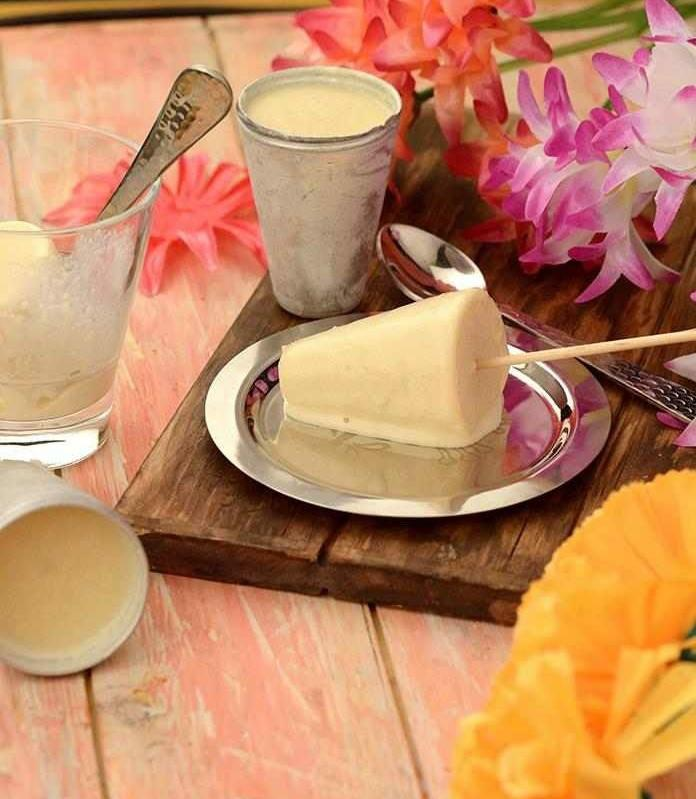Kulfi: (276, 292, 515, 448)
